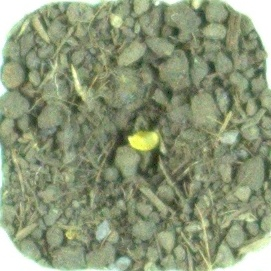chilli seed: (125, 128, 162, 153)
